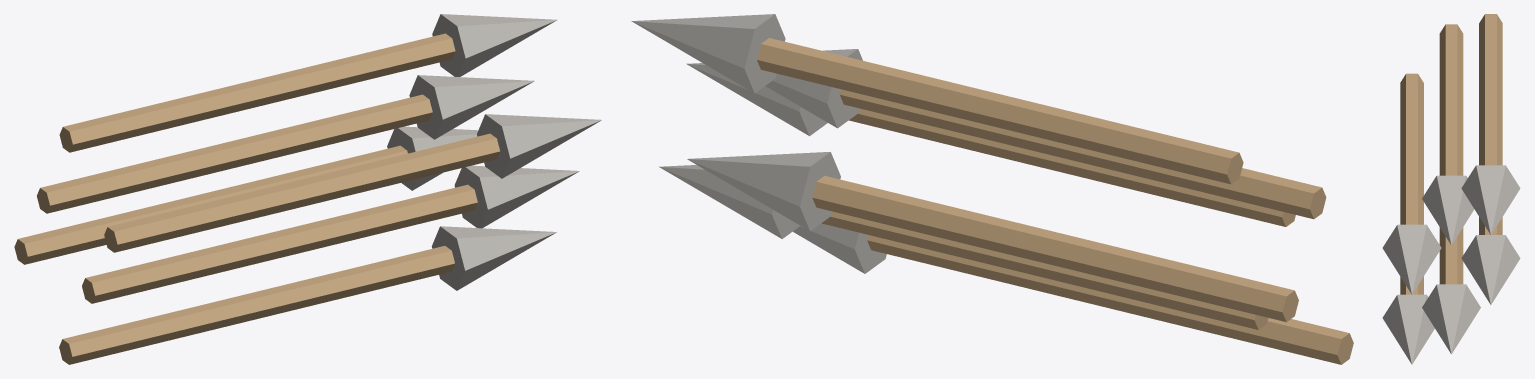
The model's file is item_015_spear_l.glb.
The picture shows the model from 3 angles, left to right: view 1: azimuth 30°, elevation 25°; view 2: azimuth 150°, elevation 25°; view 3: azimuth 270°, elevation 25°; orthographic projection. The views are drawn at different scales.
Visible parts, largest first — view 1: item_015_spear_l; view 2: item_015_spear_l; view 3: item_015_spear_l.
Boxes of the visible parts, bbox=[...] form: item_015_spear_l: bbox=[14, 14, 601, 364]; item_015_spear_l: bbox=[631, 14, 1353, 364]; item_015_spear_l: bbox=[1382, 14, 1520, 364].
Bounding box in the file's own units: 0.8332 × 0.3279 × 0.21.
